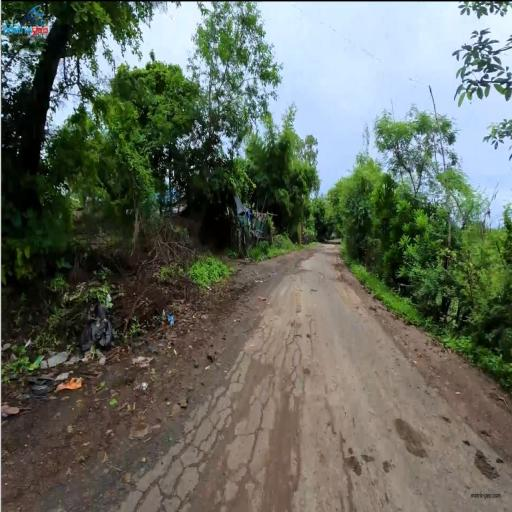alligator_crack: (229, 339, 313, 500), (174, 430, 217, 497), (294, 430, 339, 471)
